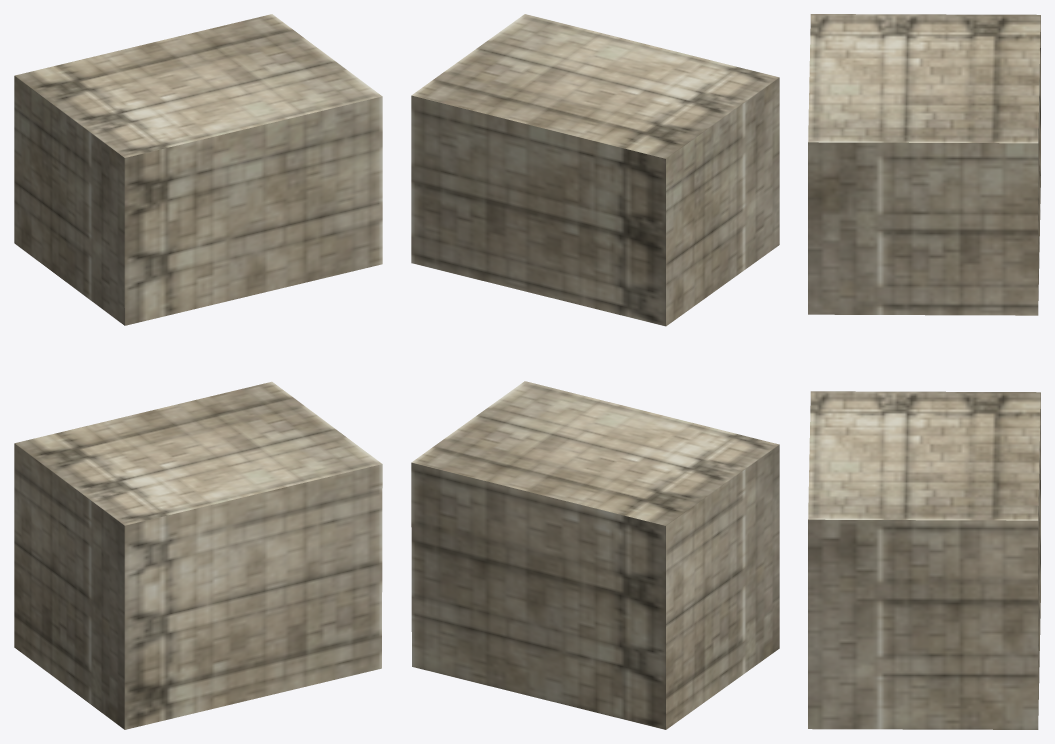
The model's file is walls_and_columns_2.fbx.
3 views of the same model, side by side, from view 1: azimuth 30°, elevation 25°; view 2: azimuth 150°, elevation 25°; view 3: azimuth 270°, elevation 25° (orthographic). The views are drawn at different scales.
Visible parts, largest first — view 1: walls_and_columns_2; view 2: walls_and_columns_2; view 3: walls_and_columns_2.
Part boxes in pixels (x1,y1,x2,y2): walls_and_columns_2: (14, 14, 382, 729); walls_and_columns_2: (411, 14, 779, 729); walls_and_columns_2: (808, 14, 1040, 729).
Size of the model in its own units: 377 by 799 by 287.
